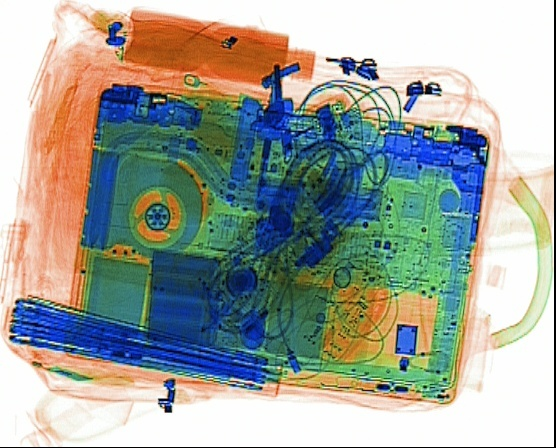powerbank: (143, 247, 224, 349)
